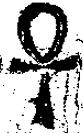Ankh: (6, 1, 82, 132)
